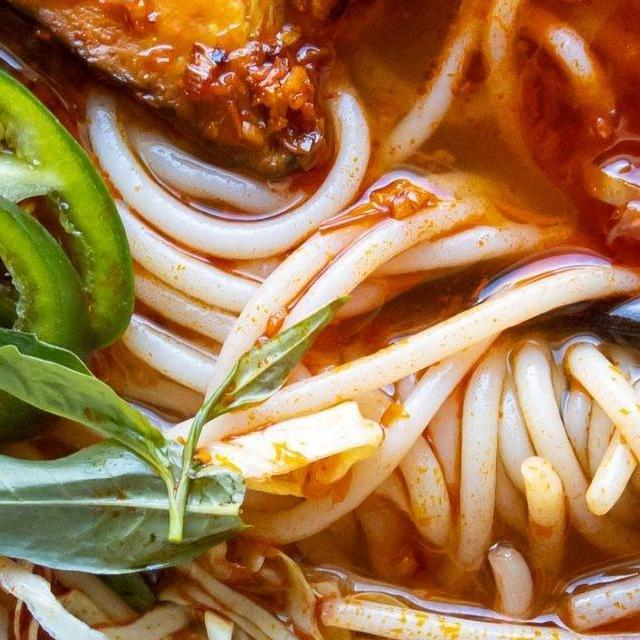bun: (28, 46, 640, 580), (451, 0, 640, 414)
dau hu: (0, 0, 356, 196)
